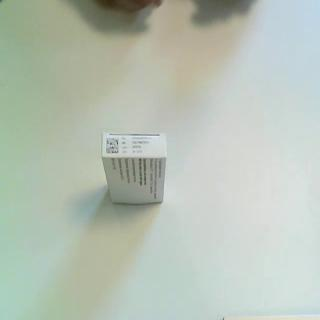oxycontin5mg: (101, 131, 168, 207)
